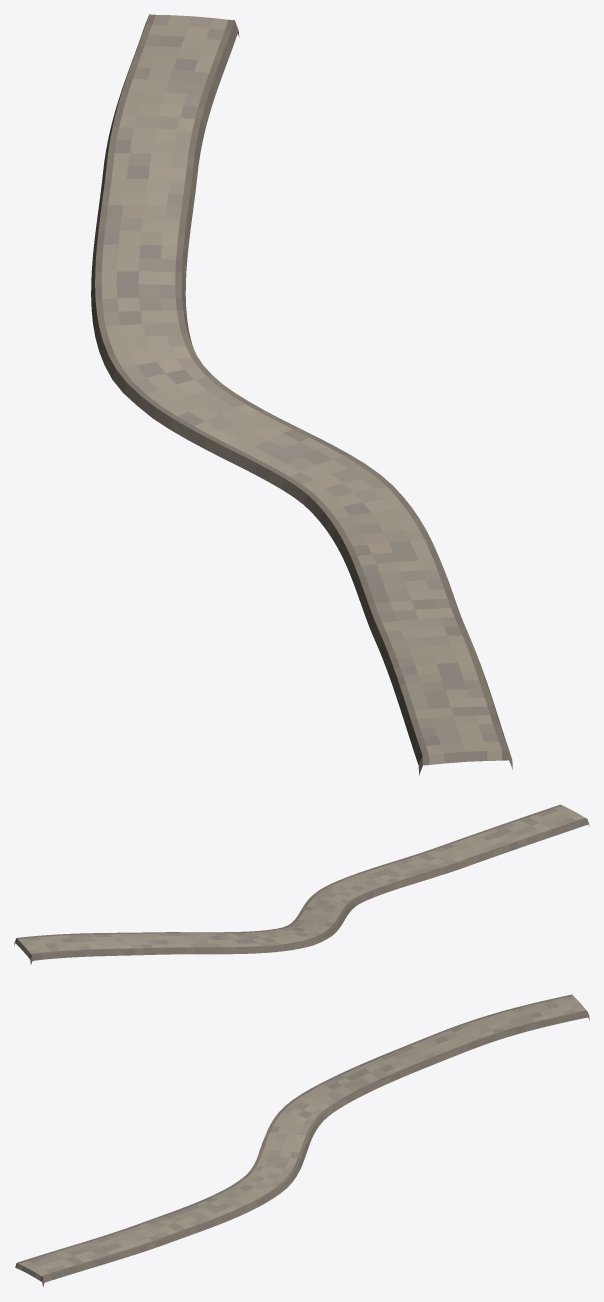
Rendered from road_north_road.glb.
3 renders of one model, top to bottom at view 1: azimuth 30°, elevation 25°; view 2: azimuth 150°, elevation 25°; view 3: azimuth 330°, elevation 25°, orthographic. The views are drawn at different scales.
Visible parts, largest first — view 1: road_north_road; view 2: road_north_road; view 3: road_north_road.
Part boxes in pixels (x1,y1,x2,y2): road_north_road: [91, 14, 512, 775]; road_north_road: [14, 804, 589, 964]; road_north_road: [15, 994, 589, 1287].
Size of the model in its own units: 77.66 by 23.15 by 197.
1 material, 1 textured.
